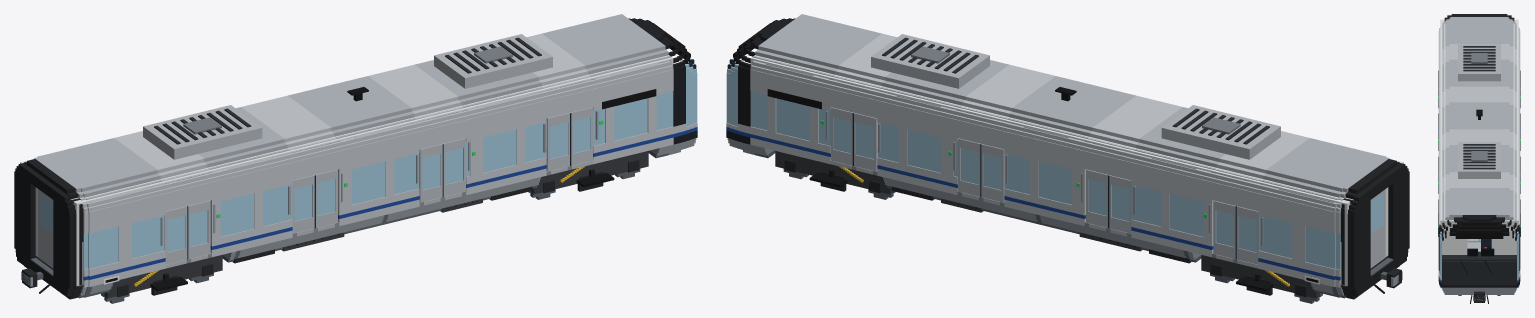
The model's file is r211_front.obj.
3 renders of one model, left to right at view 1: azimuth 30°, elevation 25°; view 2: azimuth 150°, elevation 25°; view 3: azimuth 270°, elevation 25°, orthographic. The views are drawn at different scales.
Visible parts, largest first — view 1: SHELL, SHELL_roof, SHELL_diaphragm, SHELL_ceiling, BOGEY_REAR, BOGEY_FRONT, EXTERNAL_DOOR_21_CG_DR4_TOGGLE_TL_-0.61_X, EXTERNAL_DOOR_15_CG_DR3_TOGGLE_TL_-0.61_X, EXTERNAL_DOOR_3_CG_DR1_TOGGLE_TL_-0.61_X, FRAME, EXTERNAL_DOOR_9_CG_DR2_TOGGLE_TL_-0.61_X, EXTERNAL_DOOR_16_CG_DR3_TOGGLE_TL_0.61_X (+7 smaller); view 2: SHELL, SHELL_roof, SHELL_diaphragm, SHELL_ceiling, BOGEY_REAR, BOGEY_FRONT, EXTERNAL_DOOR_24_CG_DL4_TOGGLE_TL_-0.61_X, EXTERNAL_DOOR_18_CG_DL3_TOGGLE_TL_-0.61_X, EXTERNAL_DOOR_6_CG_DL1_TOGGLE_TL_-0.61_X, FRAME, EXTERNAL_DOOR_12_CG_DL2_TOGGLE_TL_-0.61_X, EXTERNAL_DOOR_19_CG_DL3_TOGGLE_TL_0.61_X (+7 smaller); view 3: SHELL, SHELL_roof, SHELL_desk, SHELL_ceiling, SHELL_cabwall, SHELL_destbox, SHELL_handle, FRAME, SHELL_cabseat.
Boxes of the visible parts, x1,y1,x2,y2 form: SHELL: [24, 14, 697, 299]; SHELL_roof: [143, 34, 552, 159]; SHELL_diaphragm: [14, 163, 74, 296]; SHELL_ceiling: [23, 56, 670, 204]; BOGEY_REAR: [104, 255, 222, 298]; BOGEY_FRONT: [530, 151, 648, 194]; EXTERNAL_DOOR_21_CG_DR4_TOGGLE_TL_-0.61_X: [546, 113, 571, 171]; EXTERNAL_DOOR_15_CG_DR3_TOGGLE_TL_-0.61_X: [419, 144, 443, 202]; EXTERNAL_DOOR_3_CG_DR1_TOGGLE_TL_-0.61_X: [164, 206, 188, 264]; FRAME: [21, 186, 532, 293]; EXTERNAL_DOOR_9_CG_DR2_TOGGLE_TL_-0.61_X: [292, 175, 315, 233]; EXTERNAL_DOOR_16_CG_DR3_TOGGLE_TL_0.61_X: [443, 138, 465, 196]; SHELL: [726, 14, 1399, 299]; SHELL_roof: [871, 34, 1280, 159]; SHELL_diaphragm: [1349, 163, 1409, 296]; SHELL_ceiling: [753, 56, 1400, 204]; BOGEY_REAR: [1201, 255, 1319, 298]; BOGEY_FRONT: [775, 151, 893, 194]; EXTERNAL_DOOR_24_CG_DL4_TOGGLE_TL_-0.61_X: [852, 113, 877, 171]; EXTERNAL_DOOR_18_CG_DL3_TOGGLE_TL_-0.61_X: [980, 144, 1004, 202]; EXTERNAL_DOOR_6_CG_DL1_TOGGLE_TL_-0.61_X: [1235, 206, 1259, 264]; FRAME: [891, 186, 1402, 293]; EXTERNAL_DOOR_12_CG_DL2_TOGGLE_TL_-0.61_X: [1108, 175, 1131, 233]; EXTERNAL_DOOR_19_CG_DL3_TOGGLE_TL_0.61_X: [958, 138, 980, 196]; SHELL: [1438, 14, 1520, 294]; SHELL_roof: [1458, 44, 1500, 178]; SHELL_desk: [1442, 248, 1516, 281]; SHELL_ceiling: [1440, 20, 1518, 219]; SHELL_cabwall: [1440, 219, 1518, 254]; SHELL_destbox: [1455, 231, 1503, 238]; SHELL_handle: [1438, 70, 1520, 236]; FRAME: [1470, 289, 1488, 303]; SHELL_cabseat: [1481, 239, 1491, 248].
Bounding box in the file's own units: 19.64 × 4.01 × 3.08.
Materials: 1 (1 with a texture image).
